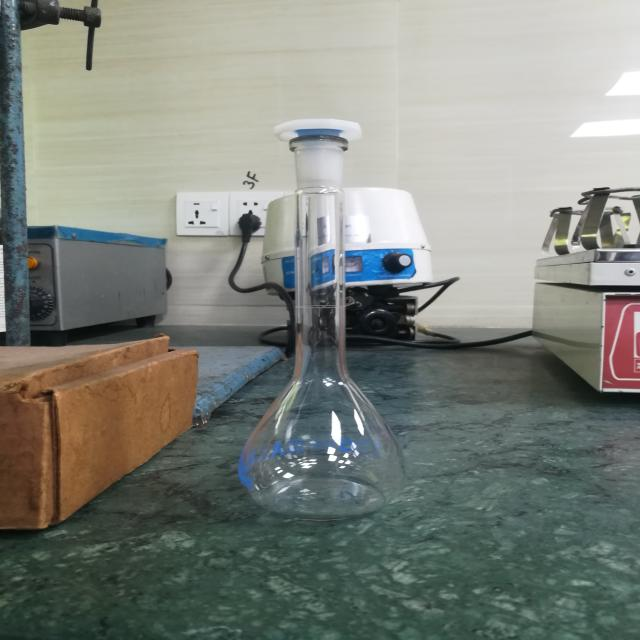Volumetric_Flask: (224, 81, 445, 550)
